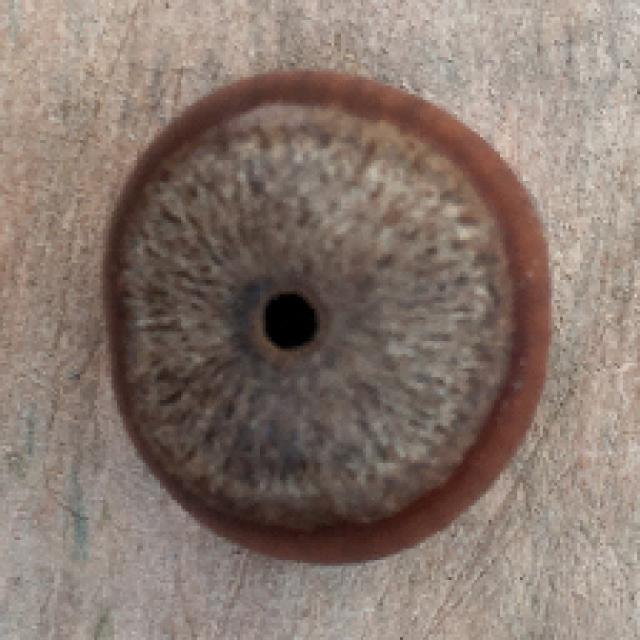damagedHazelnut: (99, 69, 551, 562)
